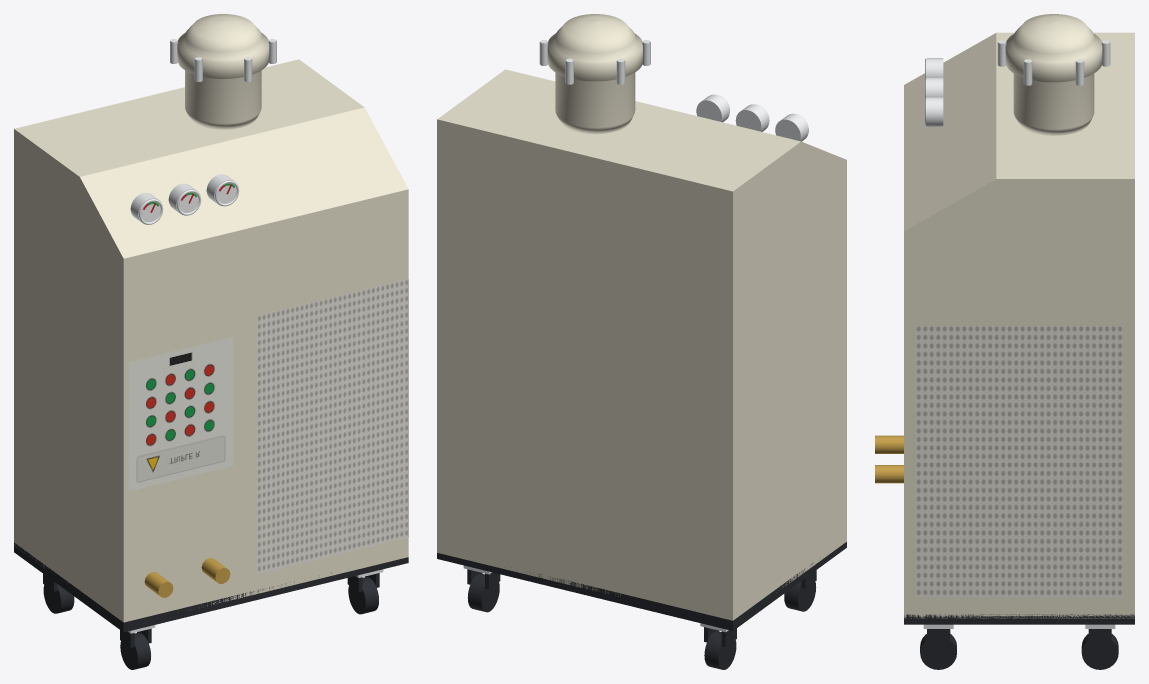
Rendered from trvs.glb.
3 views of the same model, side by side, from view 1: azimuth 30°, elevation 25°; view 2: azimuth 150°, elevation 25°; view 3: azimuth 270°, elevation 25° (orthographic). The views are drawn at different scales.
Parts seen in each view (by area): view 1: TRVS; view 2: TRVS; view 3: TRVS.
Part boxes in pixels (<box>): TRVS: <box>14,14,408,669</box>; TRVS: <box>437,14,846,669</box>; TRVS: <box>875,14,1134,669</box>.
Size of the model in its own units: 0.3005 by 0.574 by 0.225.
Materials: 47 (3 with a texture image).
